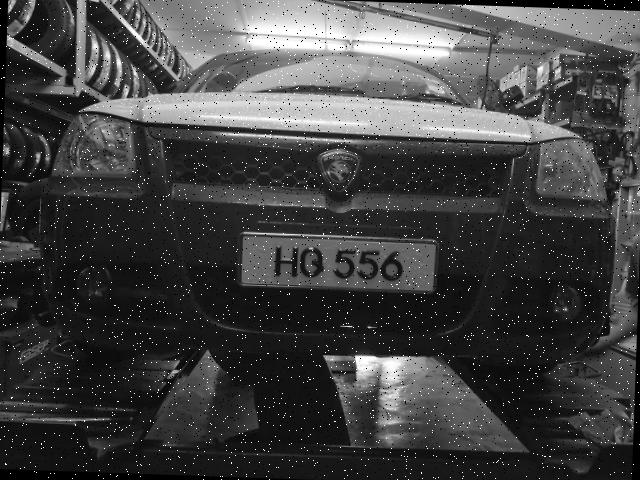License_Plate: (249, 225, 420, 289)
car: (30, 37, 631, 378)
